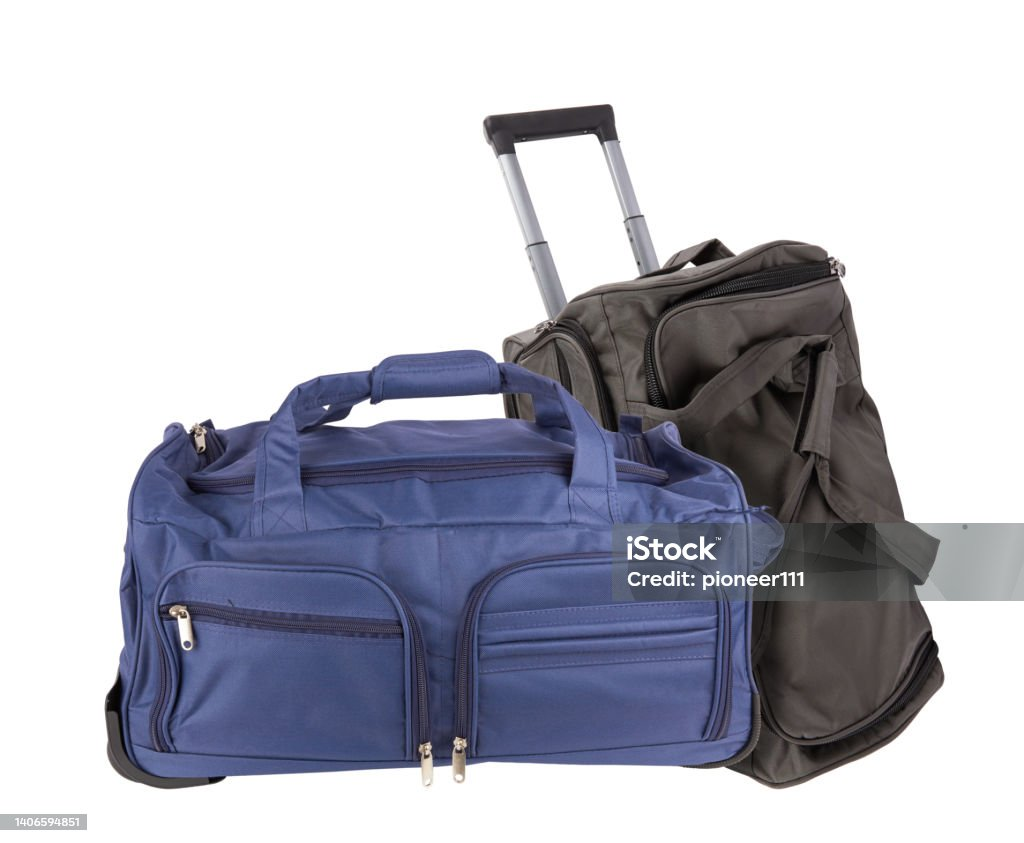Bag: (477, 96, 952, 792), (102, 351, 771, 792)
Handle: (484, 102, 667, 316)
Straps: (252, 350, 618, 535), (672, 336, 940, 584)
